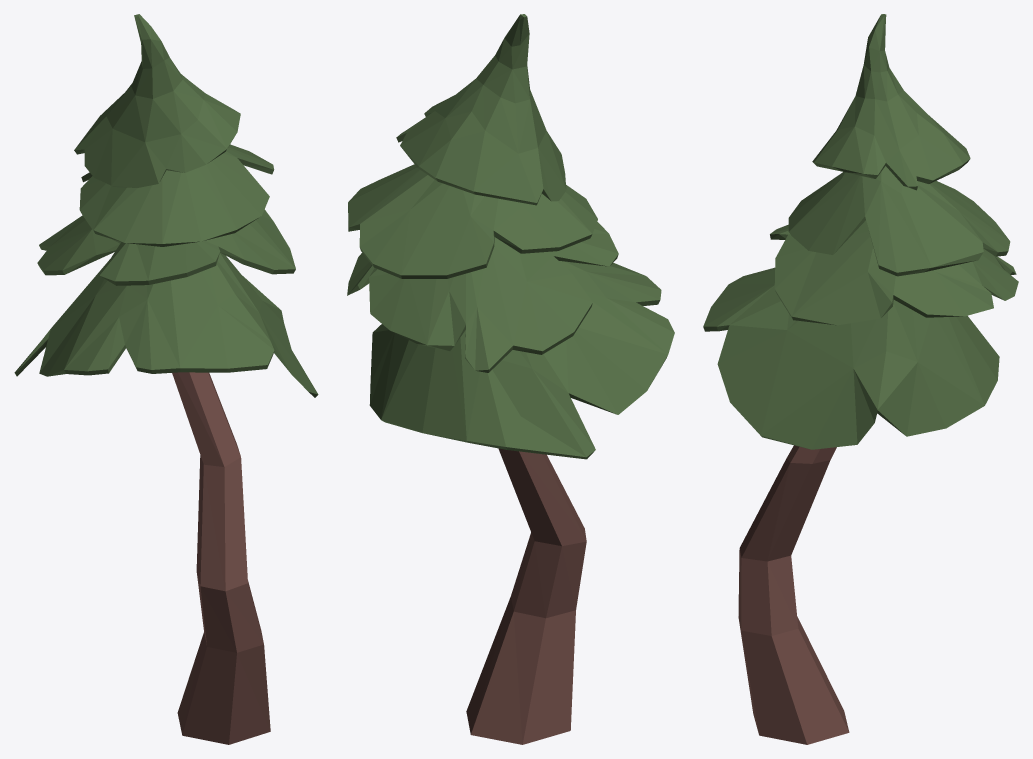
Rendered from PineTree_4.lod1.glb.
3 renders of one model, left to right at view 1: azimuth 30°, elevation 25°; view 2: azimuth 150°, elevation 25°; view 3: azimuth 270°, elevation 25°, orthographic. The views are drawn at different scales.
Parts seen in each view (by area): view 1: PineTree_4; view 2: PineTree_4; view 3: PineTree_4.
Part boxes in pixels (x1=…): PineTree_4: x1=14, y1=14, x2=318, y2=744; PineTree_4: x1=347, y1=14, x2=674, y2=744; PineTree_4: x1=703, y1=14, x2=1018, y2=744.
Bounding box in the file's own units: 1.25 × 3.34 × 1.39.
